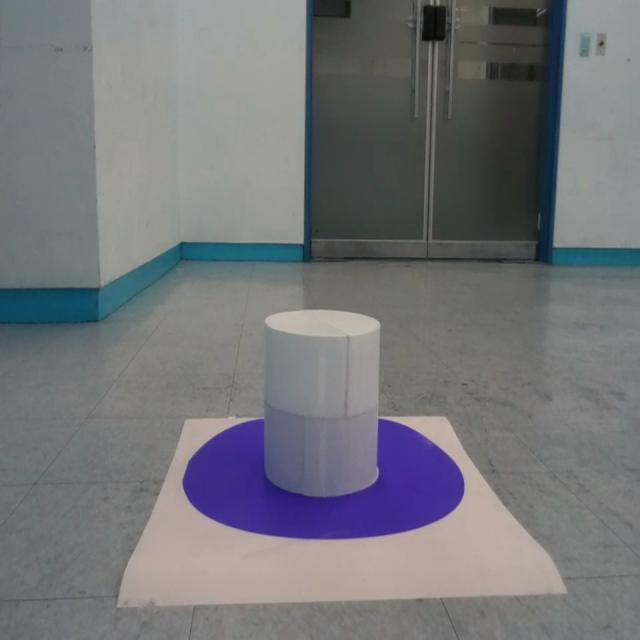cylinder: (263, 309, 381, 497)
